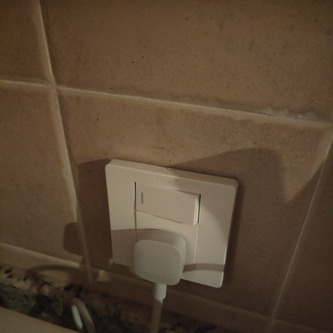switch: (130, 180, 202, 227)
